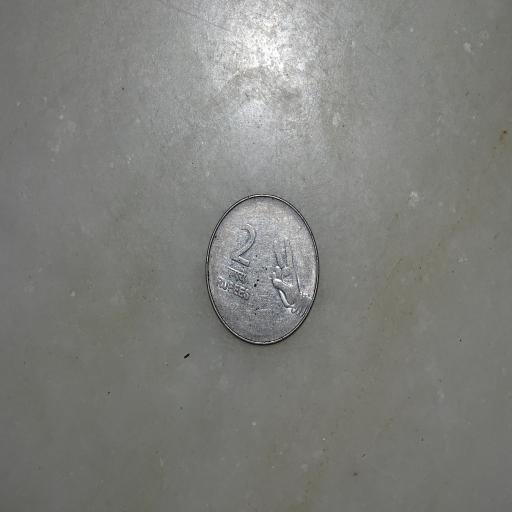rupee2: (201, 189, 323, 350)
